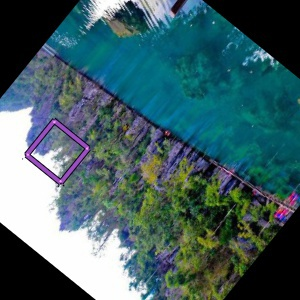square: (23, 116, 93, 188)
